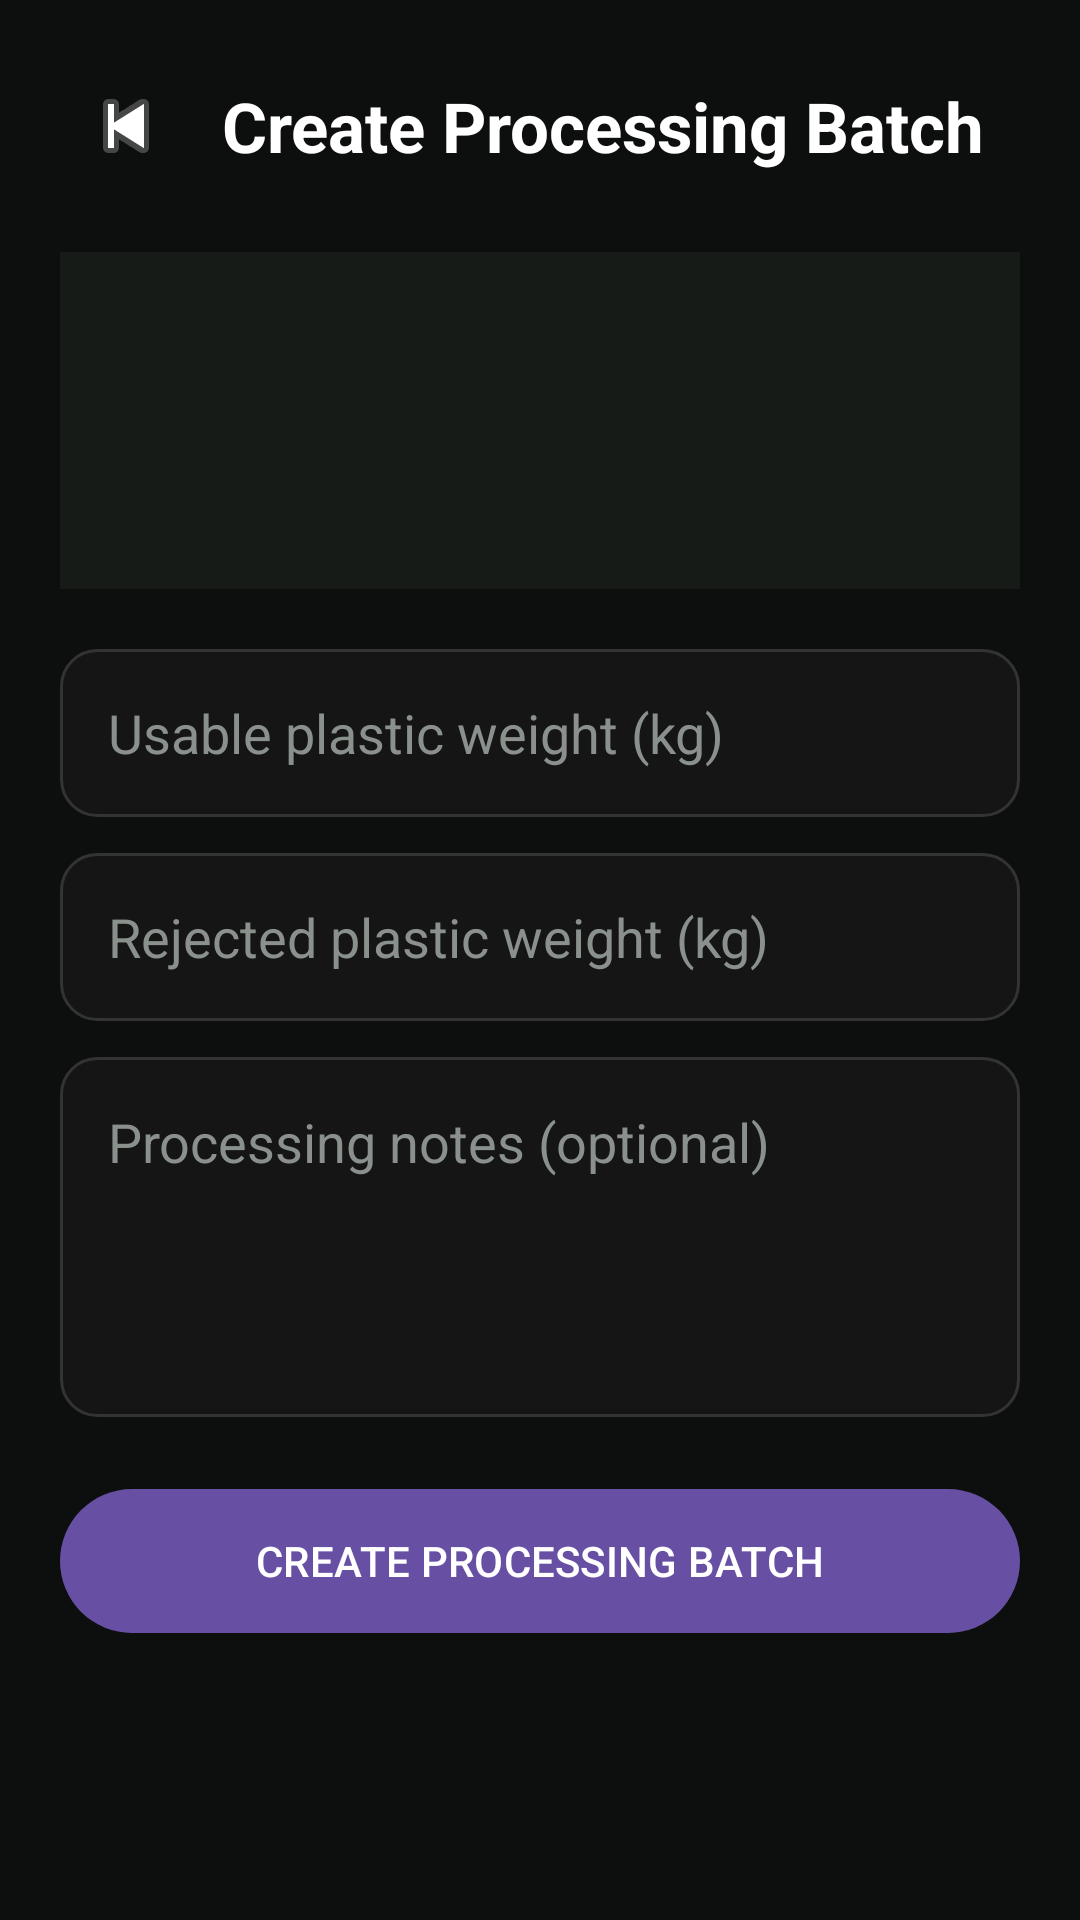

Named icons in this screenshot (1080w x 1920h) and their centers, point (x, y):
Back: point (126, 126)
